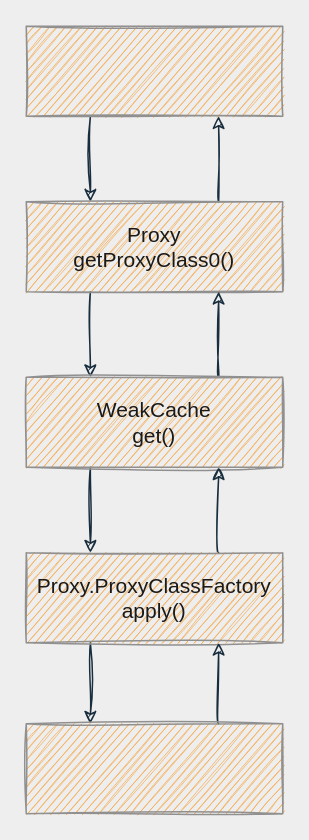
Image size: 309x840. Some labels were removed from this diagram. Here are the shapes that lost their labels. From the top down, the box of each, then its label:
(25, 25, 283, 116): Proxy newProxyInstance()
(25, 722, 283, 814): ProxyGenerator generateProxyClass()
